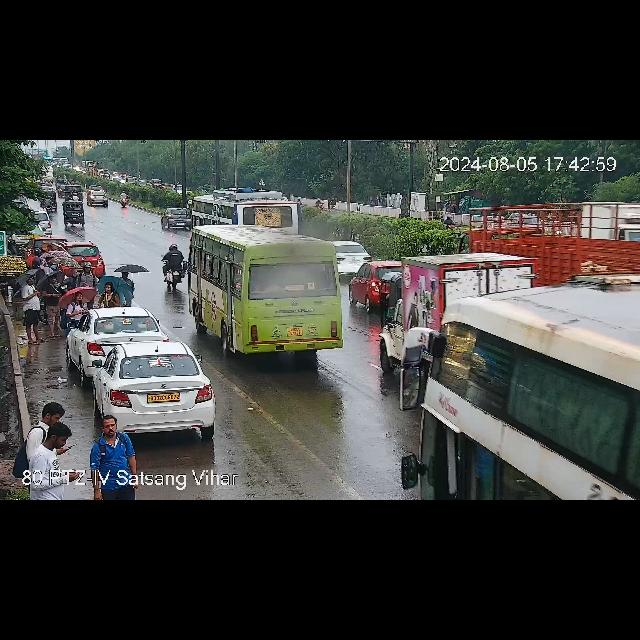bus: (386, 282, 640, 500), (188, 224, 350, 356), (187, 190, 299, 234)
car: (80, 342, 212, 440), (70, 308, 172, 360), (349, 260, 386, 308), (66, 242, 106, 276), (336, 238, 362, 274), (61, 200, 89, 226), (161, 208, 191, 230), (84, 188, 110, 206), (35, 210, 51, 237), (60, 185, 84, 201), (152, 178, 162, 188)
motorcycle: (160, 242, 183, 288), (117, 191, 133, 209), (70, 191, 78, 201)
person: (89, 418, 140, 472), (31, 404, 74, 456), (18, 276, 48, 340), (39, 270, 61, 338), (40, 436, 76, 472), (64, 290, 88, 330), (101, 284, 121, 306), (122, 270, 136, 300), (80, 258, 94, 288), (40, 188, 56, 208), (24, 245, 40, 262)
truck: (456, 201, 640, 287), (384, 256, 448, 372)
